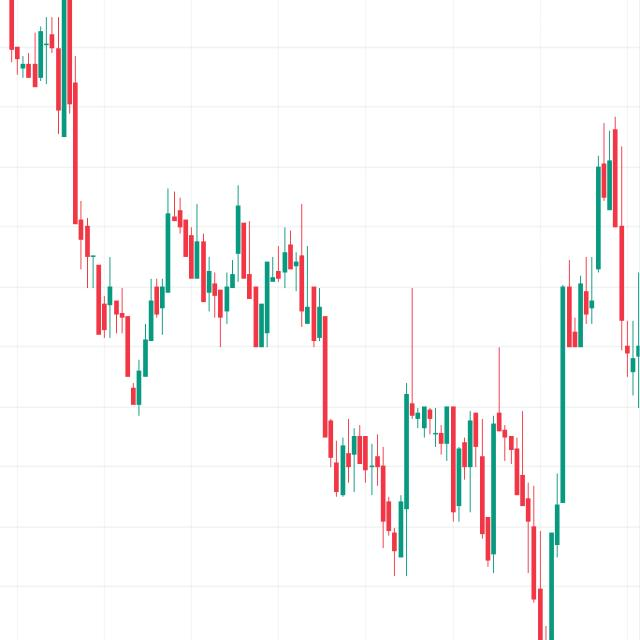Triple-Top: (132, 192, 335, 360)
